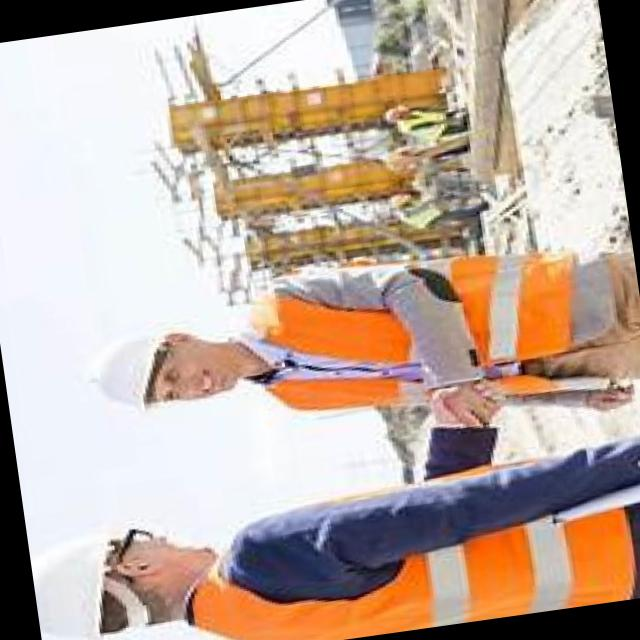not-gloved: (415, 371, 511, 438)
